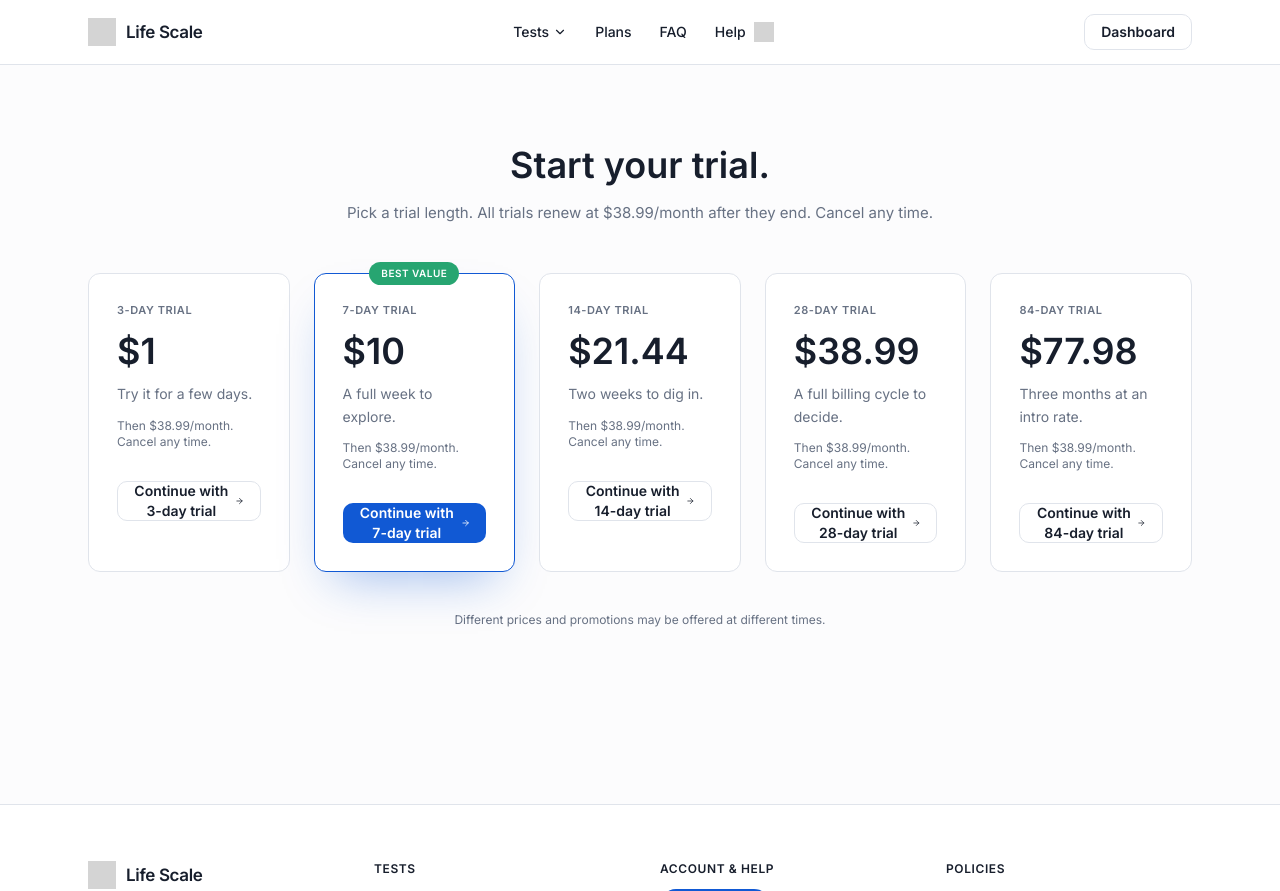
Test: purchase paths › keeps all scale upgrade routes intact through trial selection
Click the button "Continue with 3-day trial": (189, 501) [117,481,261,521]
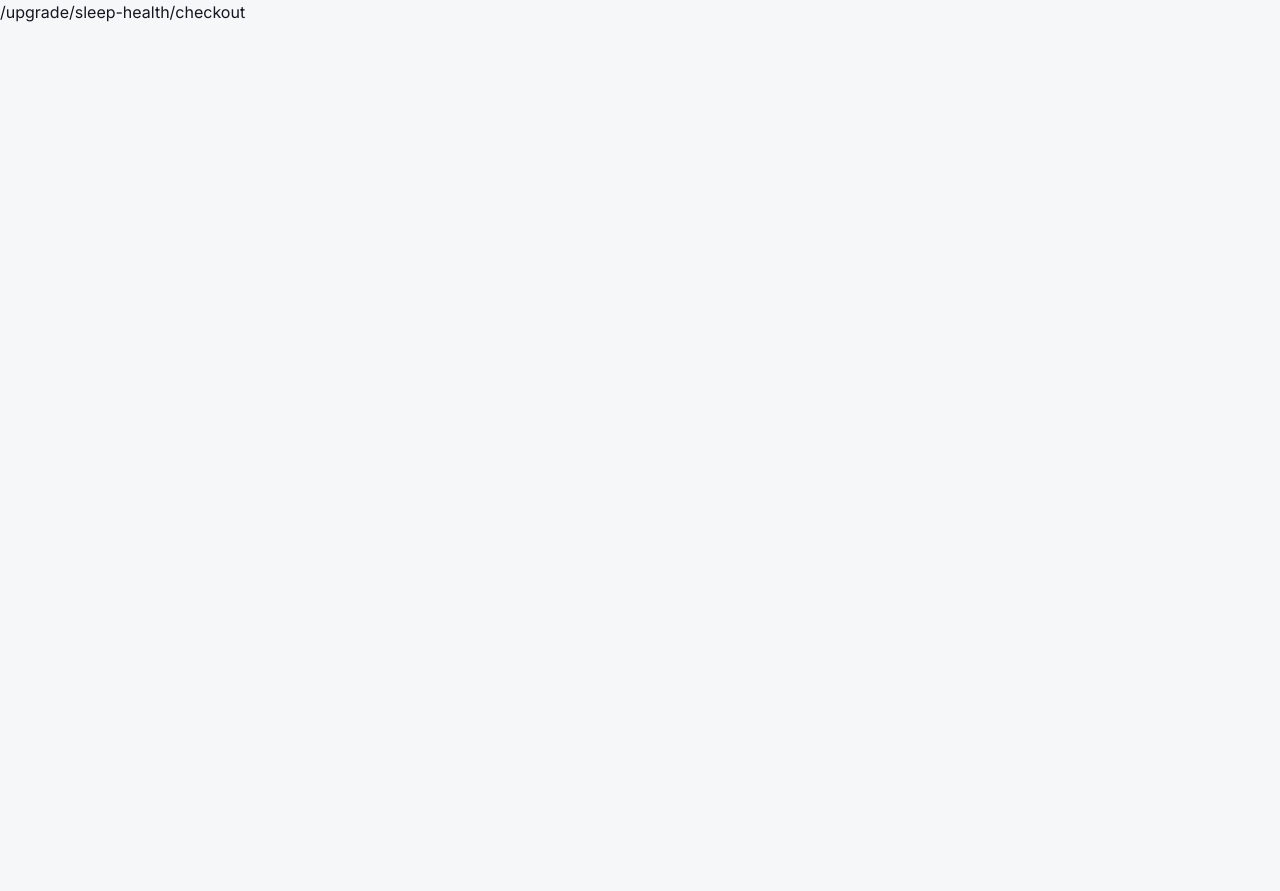
expect the text with test id "location" reads "/upgrade/sleep-health/checkout": met, box [0,2,245,22]
